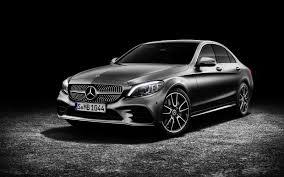mercedes: (85, 85, 96, 100)
